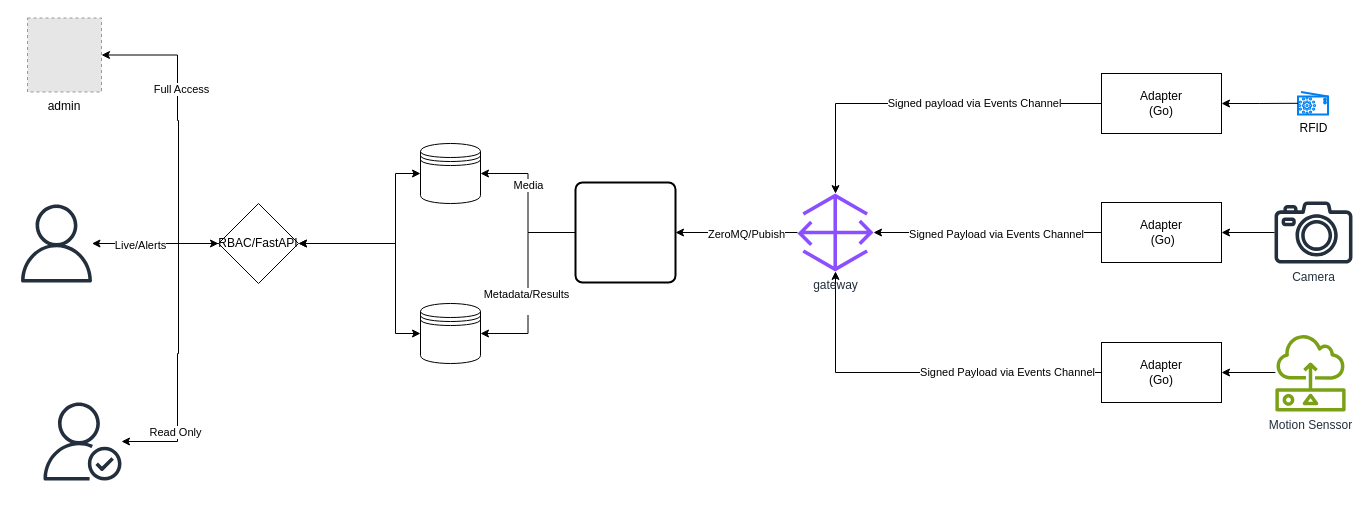
This 1369x518 diagram has some shape labels left out. Grey dashed boxes stand in for pictures. Here are the shapes that lost their labels. From the top down, the centre of each, then its label:
pixel 450 173: MinIO
pixel 56 243: operator\
pixel 625 232: DataProcessor
pixel 450 333: Postgres
pixel 82 441: auditor
